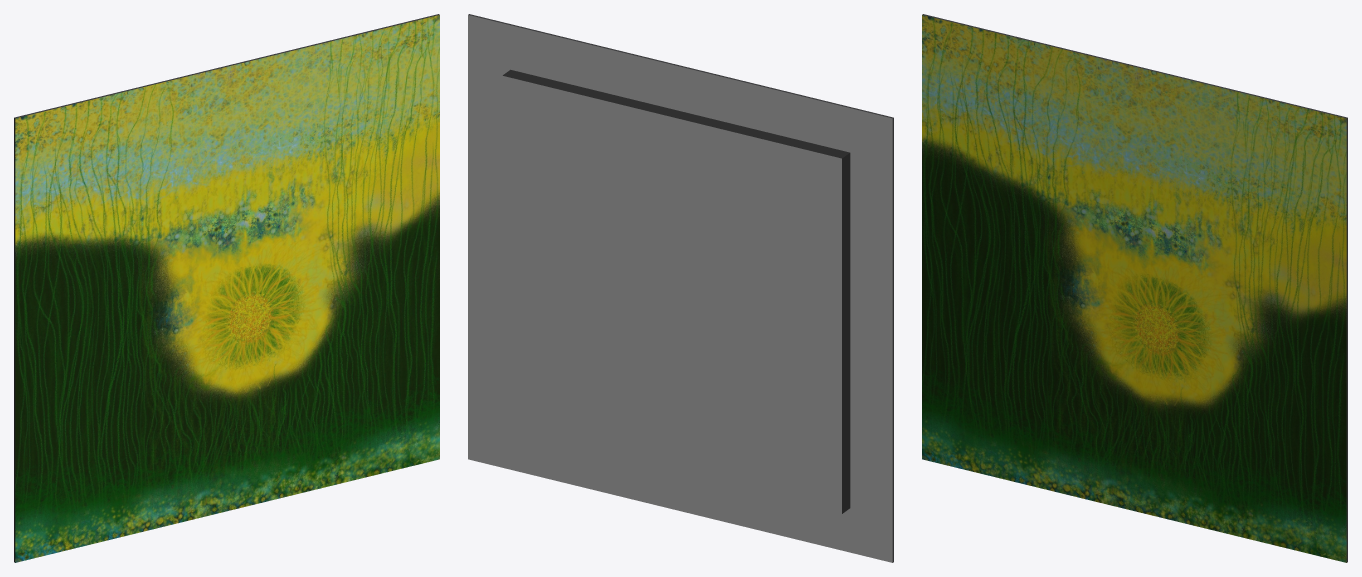
File: va201_moyen_dibond.glb
3 views of the same model, side by side, from view 1: azimuth 30°, elevation 25°; view 2: azimuth 150°, elevation 25°; view 3: azimuth 330°, elevation 25° (orthographic).
Parts seen in each view (by area): view 1: va201_moyen_dibond; view 2: va201_moyen_dibond; view 3: va201_moyen_dibond.
Part boxes in pixels (x1,y1,x2,y2): va201_moyen_dibond: (14,14,439,562); va201_moyen_dibond: (468,14,893,562); va201_moyen_dibond: (922,14,1347,562).
Size of the model in its own units: 0.6 by 0.6 by 0.023.
4 materials, 1 textured.
